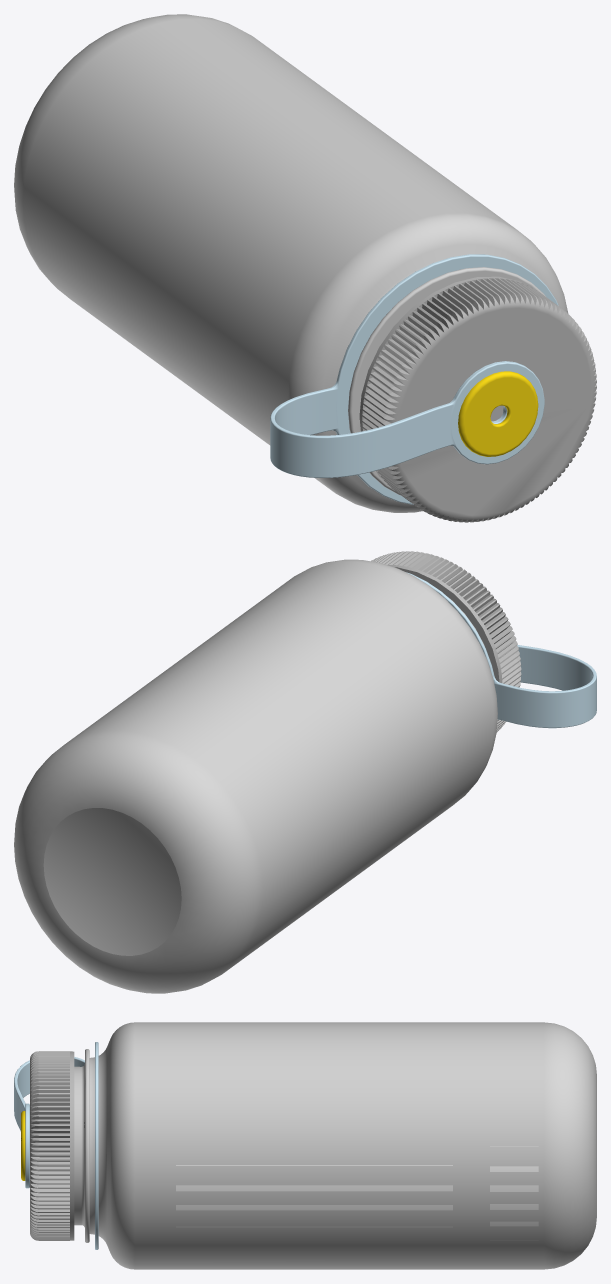
The model's file is nalgene.glb.
The picture shows the model from 3 angles, top to bottom: view 1: azimuth 30°, elevation 25°; view 2: azimuth 150°, elevation 25°; view 3: azimuth 270°, elevation 25°; orthographic projection. The views are drawn at different scales.
Parts seen in each view (by area): view 1: nalgene; view 2: nalgene; view 3: nalgene.
Boxes of the visible parts, x1,y1,x2,y2 form: nalgene: (14, 14, 596, 522); nalgene: (14, 551, 596, 993); nalgene: (14, 1022, 596, 1269).
Size of the model in its own units: 1.04 by 0.8481 by 2.
Materials: 1 (1 with a texture image).
